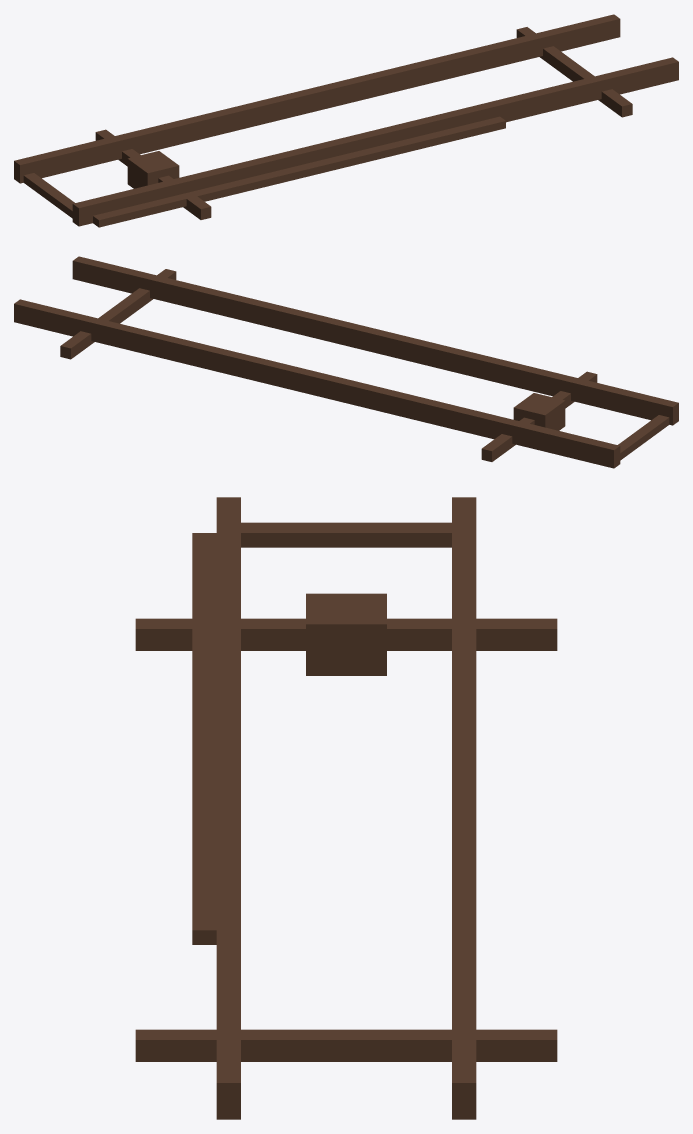
The model's file is abandoned_ambulance_chassis.glb.
3 views of the same model, one above another, from view 1: azimuth 30°, elevation 25°; view 2: azimuth 150°, elevation 25°; view 3: azimuth 270°, elevation 25° (orthographic). The views are drawn at different scales.
Parts seen in each view (by area): view 1: body:compound; view 2: body:compound; view 3: body:compound.
Part boxes in pixels (<box>): body:compound: <box>14,14,678,227</box>; body:compound: <box>14,256,678,468</box>; body:compound: <box>135,497,557,1119</box>.
Size of the model in its own units: 5.34 by 0.25 by 1.62.
